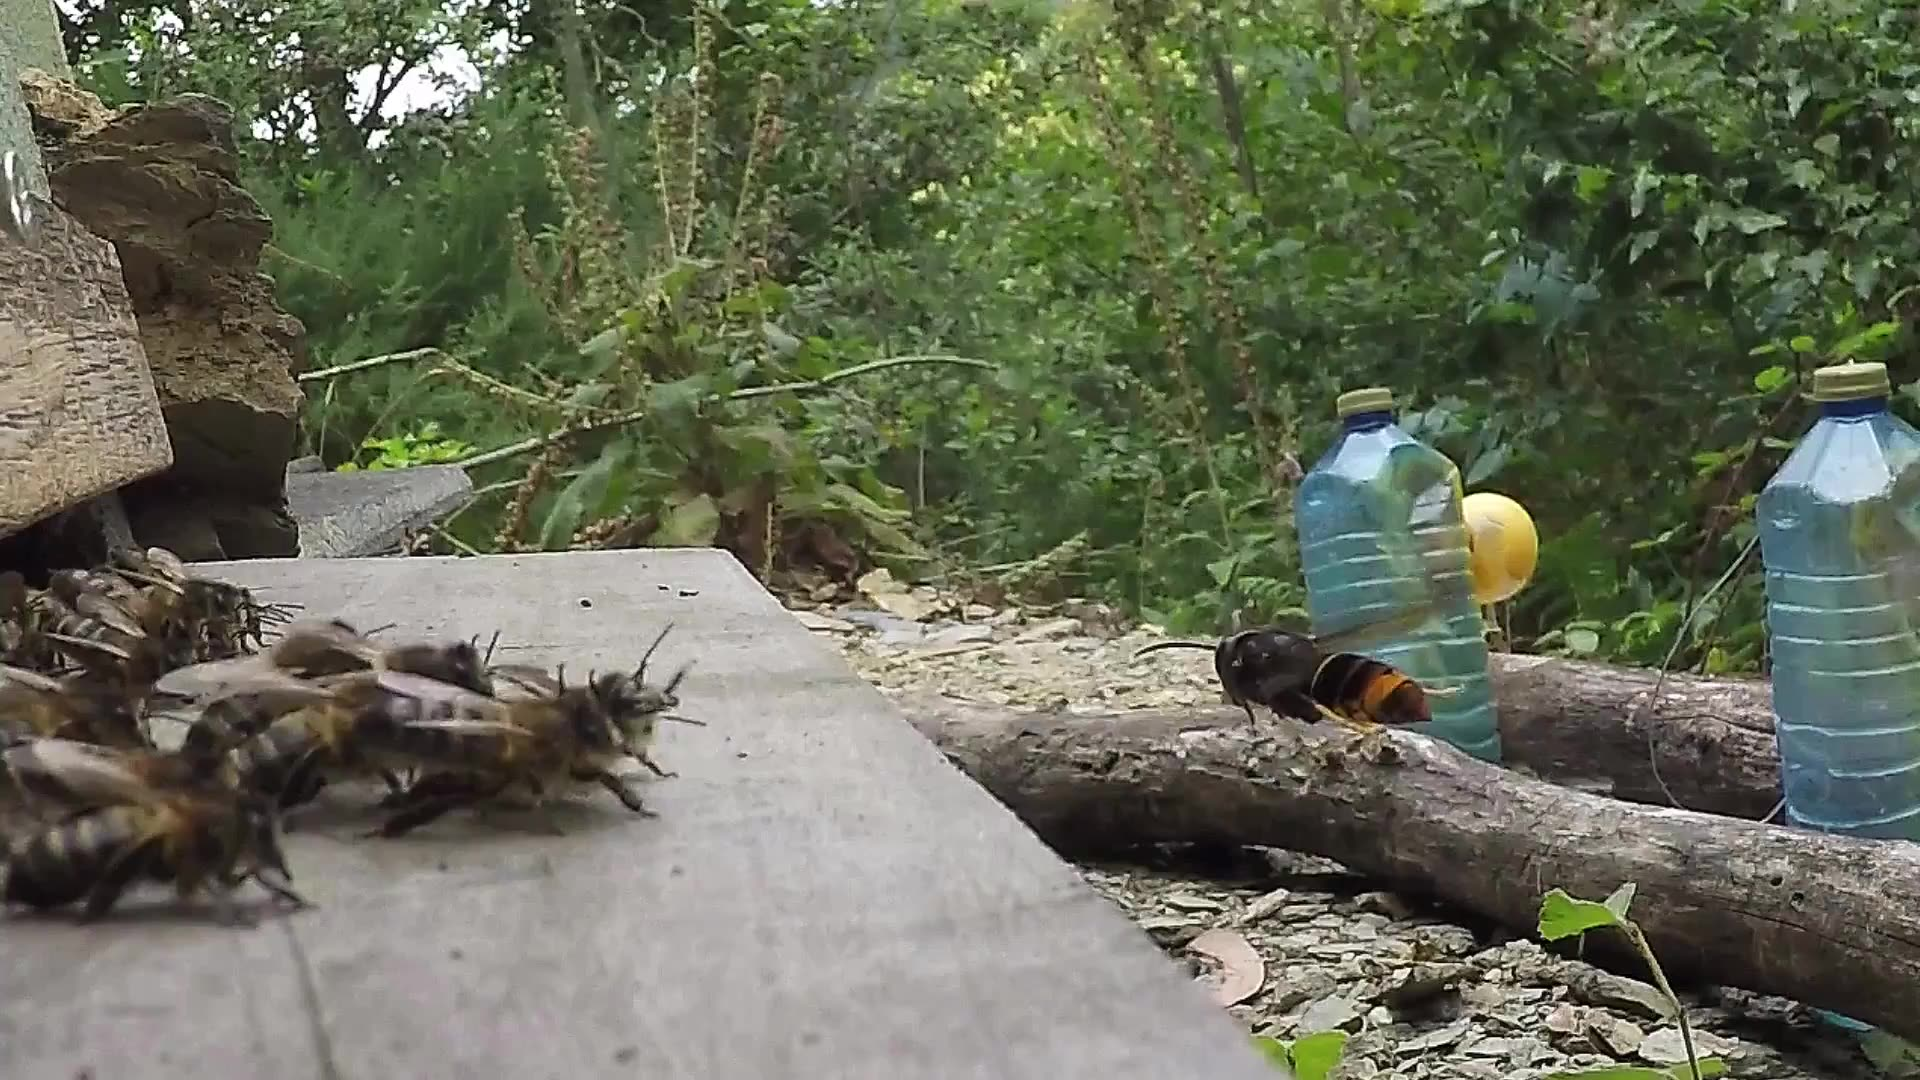bee: (193, 611, 713, 852), (21, 669, 291, 920), (22, 535, 284, 691)
hornet: (1179, 601, 1449, 756)
